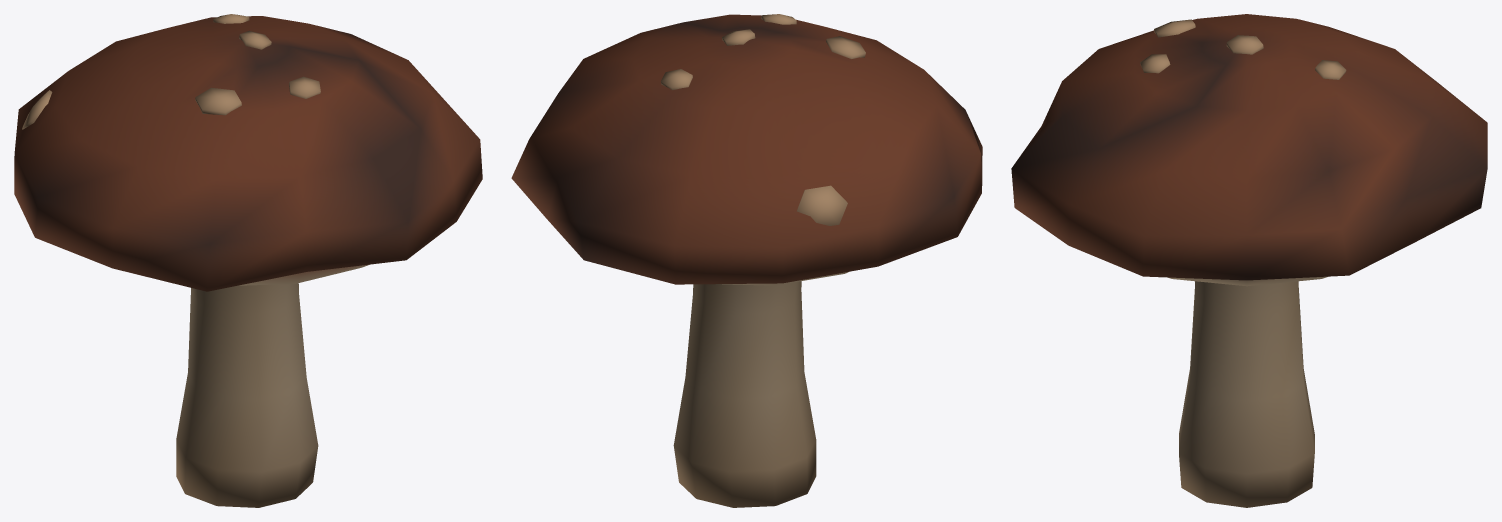
The model's file is mushroom_roasted.glb.
The picture shows the model from 3 angles, left to right: view 1: azimuth 30°, elevation 25°; view 2: azimuth 150°, elevation 25°; view 3: azimuth 270°, elevation 25°; orthographic projection.
Parts seen in each view (by area): view 1: mushroom_roasted; view 2: mushroom_roasted; view 3: mushroom_roasted.
Part boxes in pixels (x1,y1,x2,y2): mushroom_roasted: (14,14,482,507); mushroom_roasted: (511,14,982,507); mushroom_roasted: (1011,14,1487,507).
Bounding box in the file's own units: 0.0716 × 0.0764 × 0.073.
